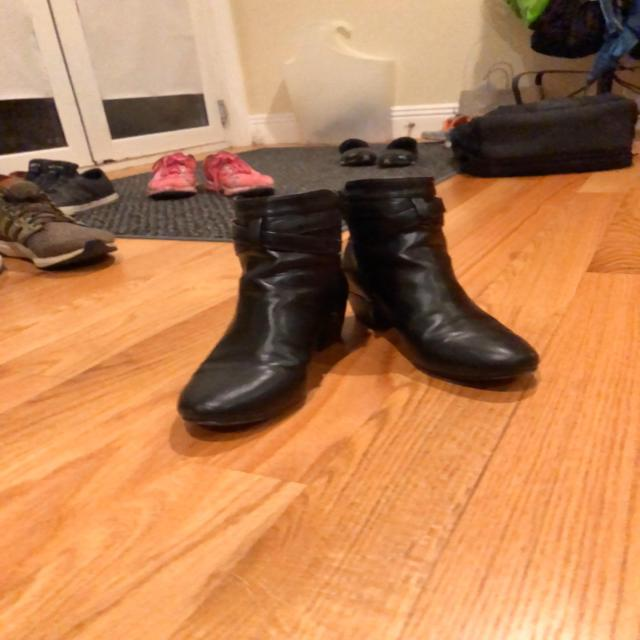shoe: (166, 194, 342, 422), (351, 181, 546, 377)
